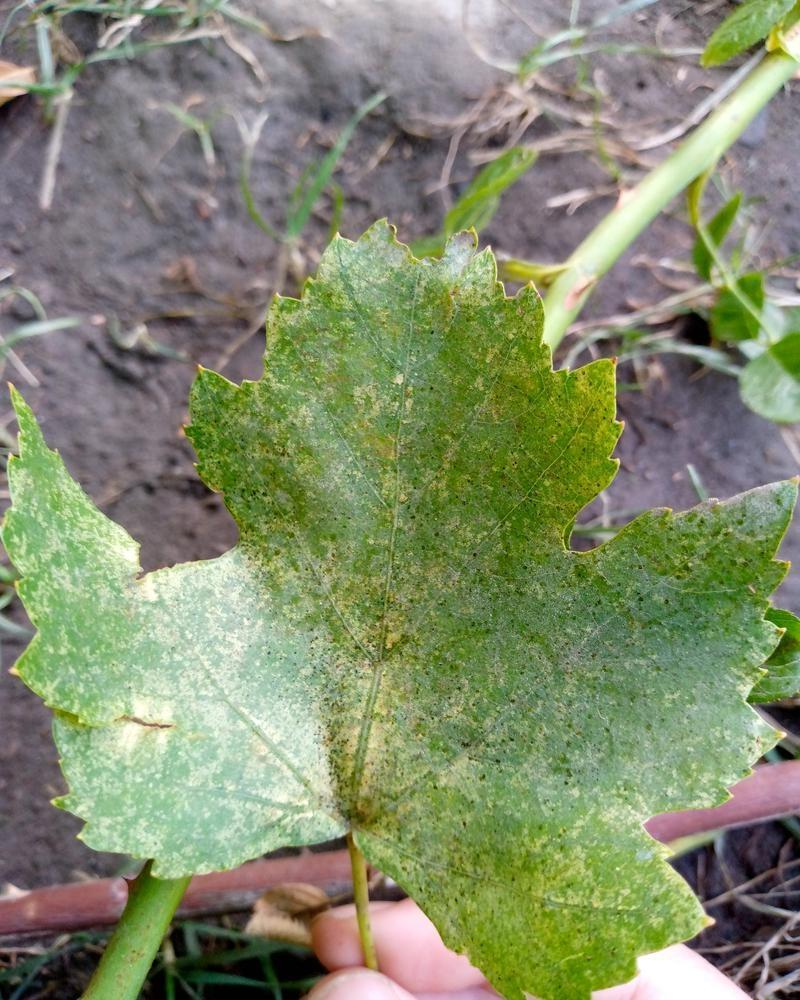Powdery-Mildew: (42, 494, 305, 673), (269, 610, 447, 806), (535, 787, 705, 938), (66, 653, 231, 786), (304, 236, 414, 382), (91, 786, 233, 870), (420, 240, 483, 303), (488, 368, 551, 431), (360, 399, 423, 462), (727, 485, 790, 548), (391, 543, 454, 606), (660, 623, 723, 686), (711, 699, 774, 762), (637, 714, 700, 777), (255, 781, 318, 844)
